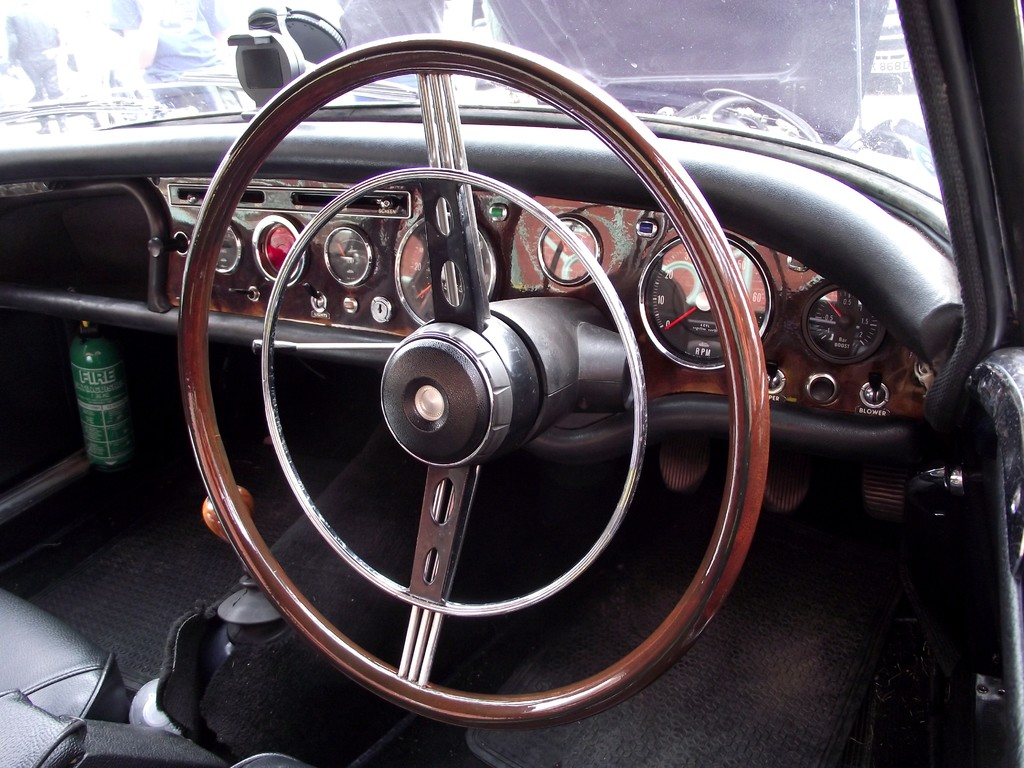Car: (17, 17, 914, 739)
